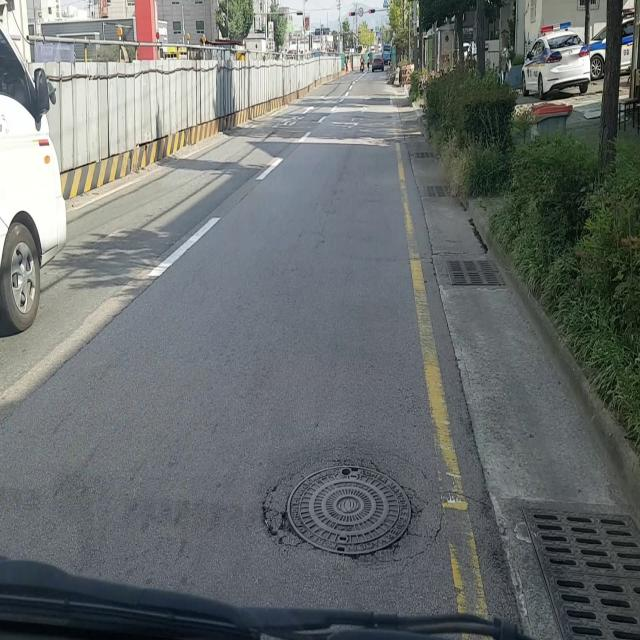Pothole: (263, 463, 422, 563)
